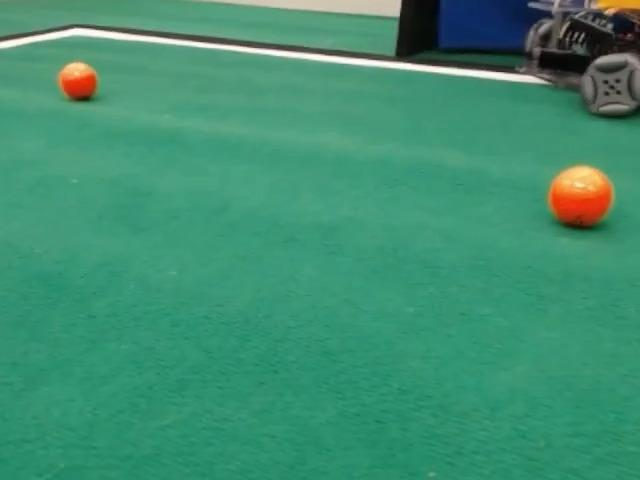Ball: (548, 165, 613, 227), (58, 61, 97, 100)
Robot: (524, 0, 639, 117)
